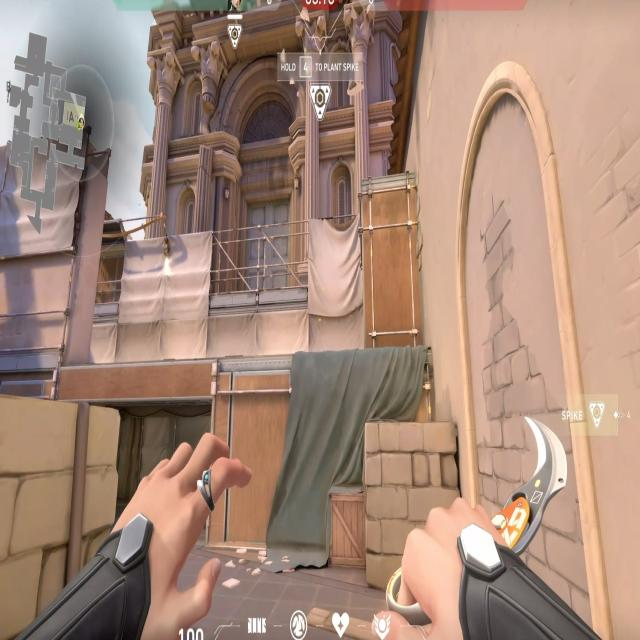A_Heaven_Box: (354, 162, 432, 360)
A_Heaven_Wall: (0, 119, 119, 366)
